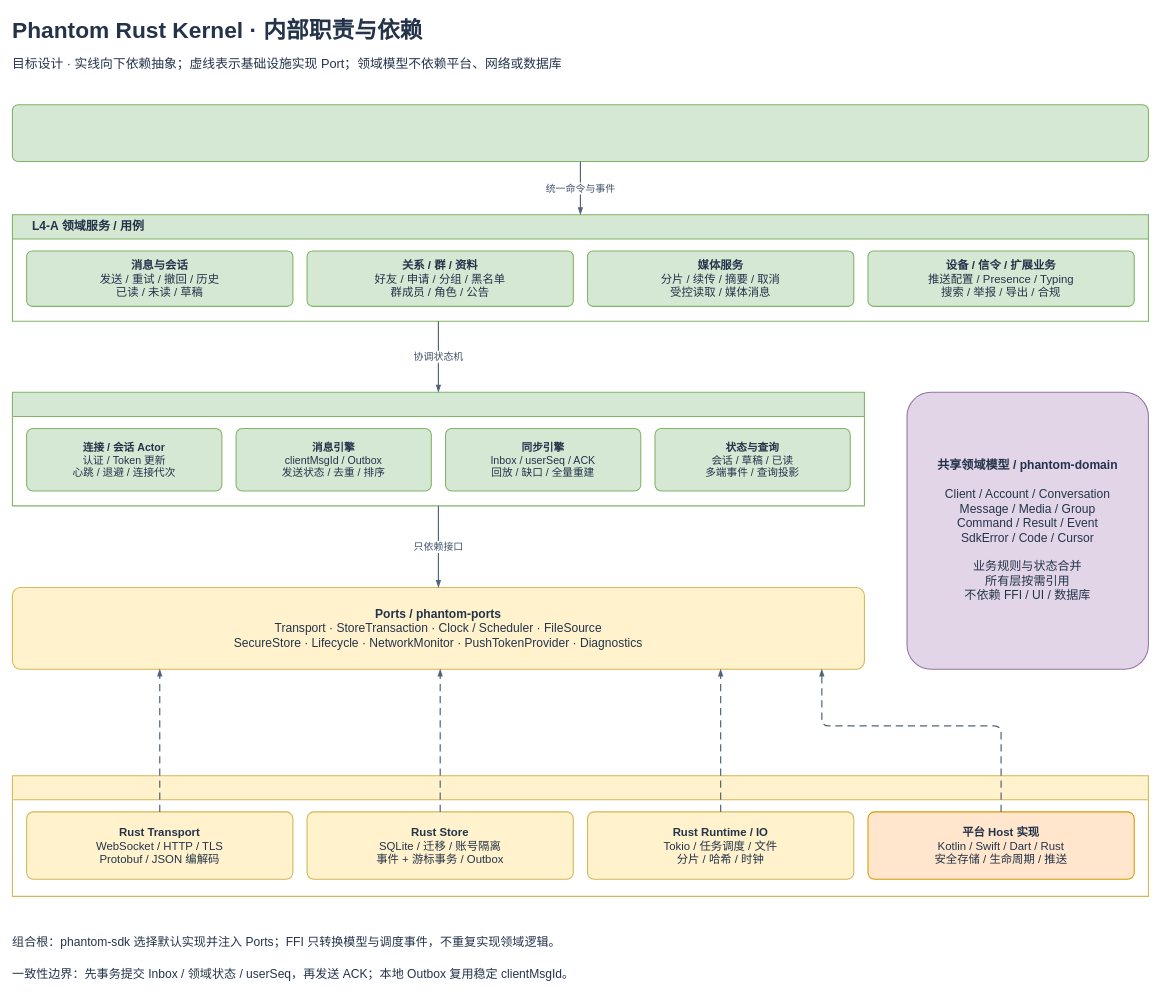
This 1162x998 diagram has some shape labels left out. Here are the shapes that lost their labels. From the top down, the box of each, then its label:
(12, 104, 1149, 162): Rust SDK Facade / phantom-sdk 实例与会话生命周期 · 统一结果与事件 · 任务取消 · 配置与组合根
(12, 391, 865, 506): L4-B 核心引擎与状态机
(12, 775, 1149, 897): L5 适配实现
